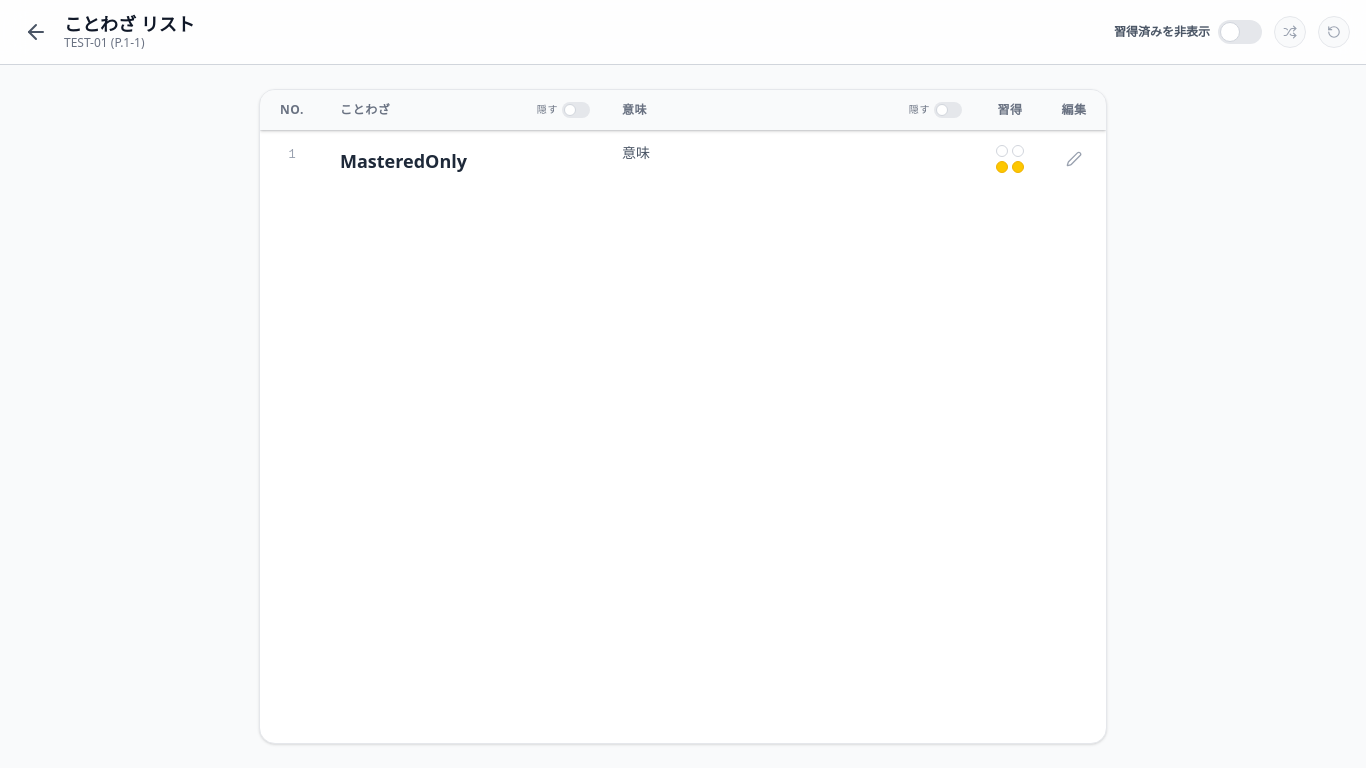
Scenario: WordList › 習得済みのみの場合は非表示メッセージが出る
Check: the text "MasteredOnly" is shown, box [340, 149, 467, 173]
Click the checkbox labelled "習得済みを非表示" at (1188, 32), box [1114, 20, 1262, 44]
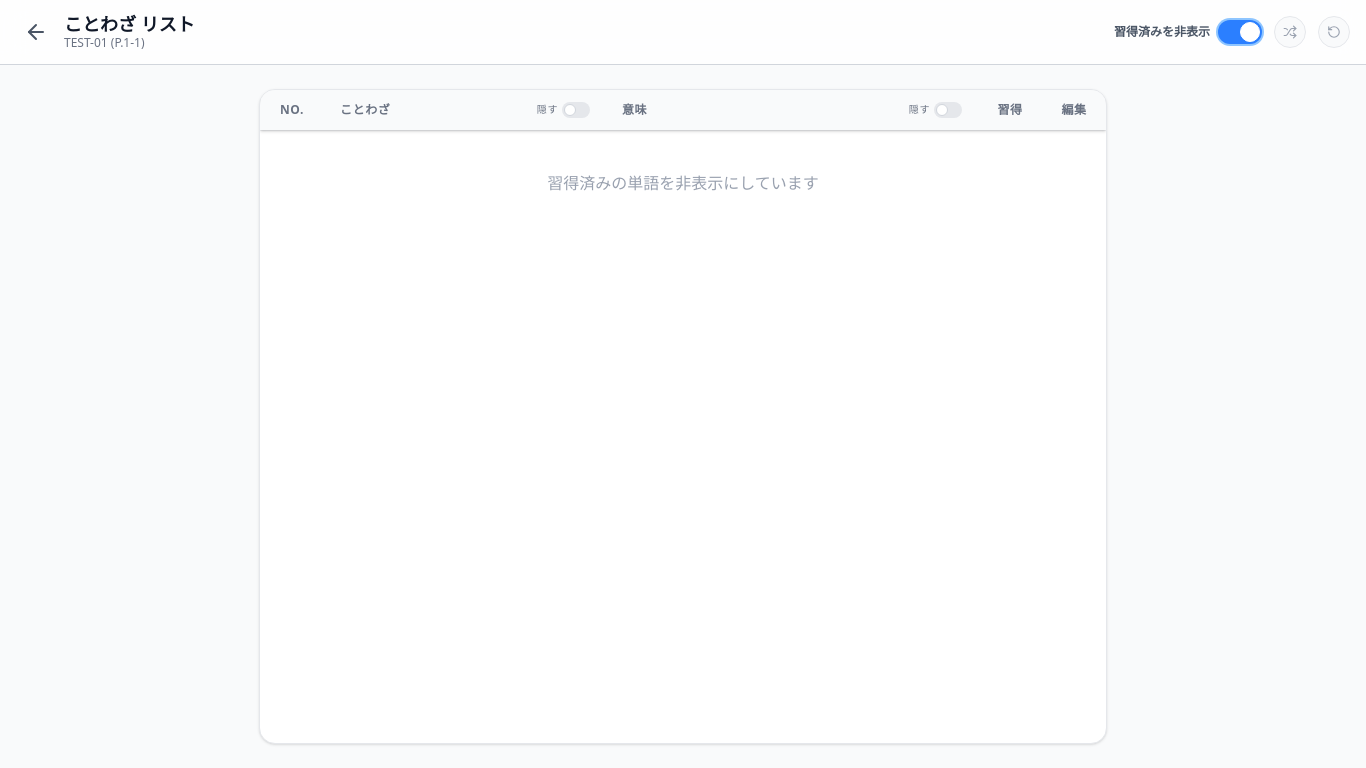
Check: the text "習得済みの単語を非表示にしています" is shown, box [547, 172, 819, 194]
